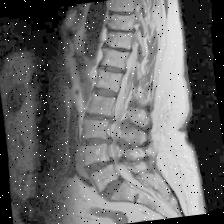disc: (96, 174, 132, 202), (89, 80, 123, 104), (106, 2, 141, 22)
hdisc: (75, 130, 114, 154), (80, 155, 120, 178), (80, 106, 118, 129), (95, 58, 130, 81), (99, 39, 135, 59), (103, 21, 139, 39)
